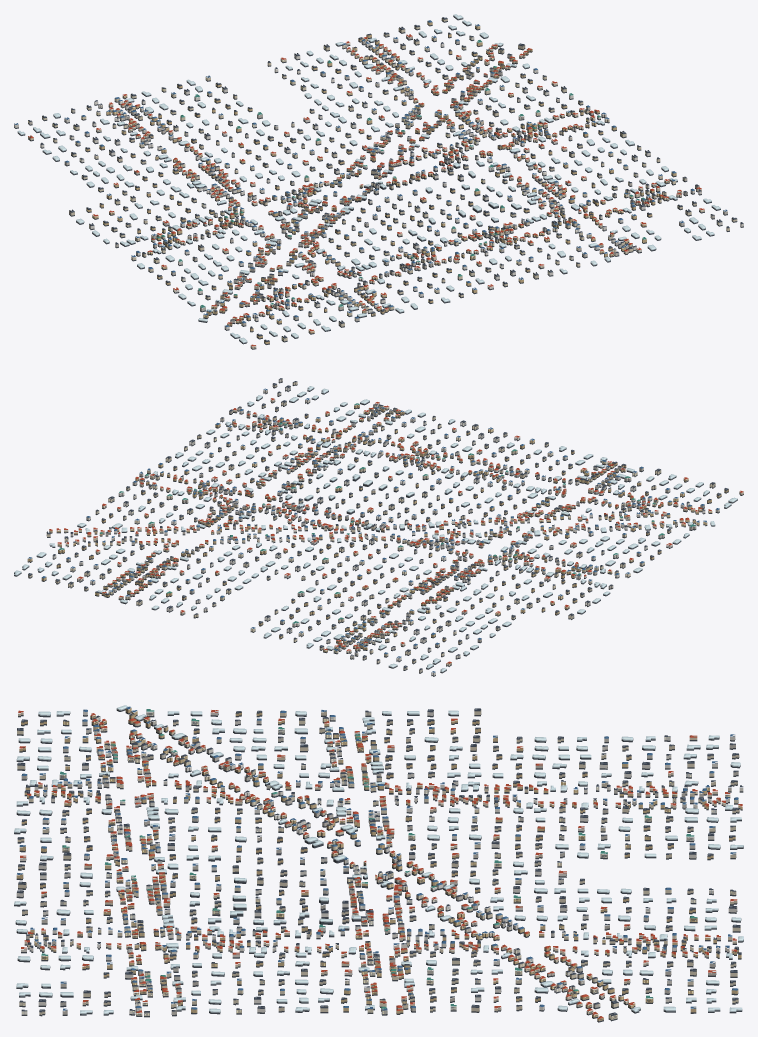
File: osm_buildings_T_W05_S01.glb
3 views of the same model, one above another, from view 1: azimuth 30°, elevation 25°; view 2: azimuth 150°, elevation 25°; view 3: azimuth 270°, elevation 25° (orthographic). The views are drawn at different scales.
Parts seen in each view (by area): view 1: OSM_T_W05_S01_foundation, OSM_T_W05_S01_greenhouse_blend, OSM_T_W05_S01_wall_cream_stucco, OSM_T_W05_S01_wall_french_ochre, OSM_T_W05_S01_roof_mansard_slate, OSM_T_W05_S01_roof_terracotta, OSM_T_W05_S01_wall_warm_white, OSM_T_W05_S01_wall_pastel_sand, OSM_T_W05_S01_roof_alpine_blue, OSM_T_W05_S01_roof_mansard_deck, OSM_T_W05_S01_balcony_railing; view 2: OSM_T_W05_S01_foundation, OSM_T_W05_S01_greenhouse_blend, OSM_T_W05_S01_wall_cream_stucco, OSM_T_W05_S01_wall_french_ochre, OSM_T_W05_S01_roof_mansard_slate, OSM_T_W05_S01_roof_terracotta, OSM_T_W05_S01_wall_warm_white, OSM_T_W05_S01_roof_alpine_blue, OSM_T_W05_S01_wall_pastel_sand, OSM_T_W05_S01_roof_mansard_deck, OSM_T_W05_S01_balcony_railing; view 3: OSM_T_W05_S01_foundation, OSM_T_W05_S01_greenhouse_blend, OSM_T_W05_S01_wall_cream_stucco, OSM_T_W05_S01_wall_french_ochre, OSM_T_W05_S01_roof_mansard_slate, OSM_T_W05_S01_roof_terracotta, OSM_T_W05_S01_wall_warm_white, OSM_T_W05_S01_roof_alpine_blue, OSM_T_W05_S01_wall_pastel_sand, OSM_T_W05_S01_roof_mansard_deck, OSM_T_W05_S01_roof_mint_metal, OSM_T_W05_S01_balcony_railing (+1 smaller).
Boxes of the visible parts, x1,y1,x2,y2 form: OSM_T_W05_S01_foundation: (14,16,743,349); OSM_T_W05_S01_greenhouse_blend: (17,14,720,343); OSM_T_W05_S01_wall_cream_stucco: (28,18,737,348); OSM_T_W05_S01_wall_french_ochre: (85,21,676,343); OSM_T_W05_S01_roof_mansard_slate: (28,17,743,342); OSM_T_W05_S01_roof_terracotta: (28,34,704,346); OSM_T_W05_S01_wall_warm_white: (14,36,743,329); OSM_T_W05_S01_wall_pastel_sand: (28,35,727,325); OSM_T_W05_S01_roof_alpine_blue: (14,20,727,326); OSM_T_W05_S01_roof_mansard_deck: (43,17,736,340); OSM_T_W05_S01_balcony_railing: (28,19,732,347); OSM_T_W05_S01_foundation: (14,381,743,676); OSM_T_W05_S01_greenhouse_blend: (14,386,737,672); OSM_T_W05_S01_wall_cream_stucco: (28,382,743,669); OSM_T_W05_S01_wall_french_ochre: (27,405,728,652); OSM_T_W05_S01_roof_mansard_slate: (28,378,728,670); OSM_T_W05_S01_roof_terracotta: (49,398,743,664); OSM_T_W05_S01_wall_warm_white: (52,379,719,675); OSM_T_W05_S01_roof_alpine_blue: (28,388,719,672); OSM_T_W05_S01_wall_pastel_sand: (66,390,704,672); OSM_T_W05_S01_roof_mansard_deck: (29,383,727,667); OSM_T_W05_S01_balcony_railing: (59,385,728,668); OSM_T_W05_S01_foundation: (14,709,743,1022); OSM_T_W05_S01_greenhouse_blend: (14,705,743,1014); OSM_T_W05_S01_wall_cream_stucco: (17,710,740,1019); OSM_T_W05_S01_wall_french_ochre: (16,708,742,1021); OSM_T_W05_S01_roof_mansard_slate: (17,708,743,1016); OSM_T_W05_S01_roof_terracotta: (18,710,742,1018); OSM_T_W05_S01_wall_warm_white: (16,711,743,1014); OSM_T_W05_S01_roof_alpine_blue: (17,706,738,1010); OSM_T_W05_S01_wall_pastel_sand: (21,710,738,1015); OSM_T_W05_S01_roof_mansard_deck: (17,708,739,1014); OSM_T_W05_S01_roof_mint_metal: (41,709,697,1008); OSM_T_W05_S01_balcony_railing: (23,713,733,1019).
Bounding box in the file's own units: 1970 × 53.37 × 1895.
